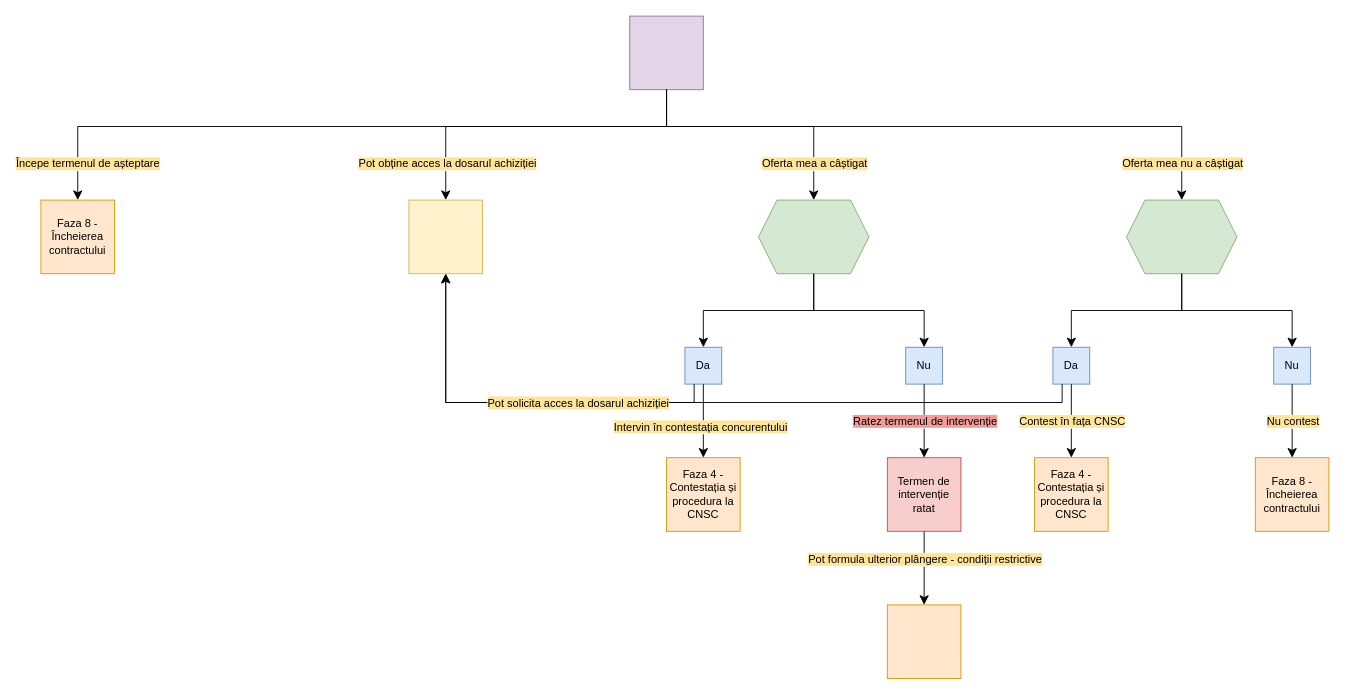
Some shapes in this 1345 by 695 pixel diagram are drawn without their labels. Each missing label, with the box of its shape:
Apăr rezultatul?: (758, 199, 869, 274)
Cerere de acces la dosarul achiziției: (408, 199, 483, 274)
Contest rezultatul?: (1126, 199, 1237, 274)
Faza 6 - Plângerea în fața Curții de Apel: (886, 604, 961, 678)
Raportul procedurii și comunicarea rezultatului: (629, 15, 703, 90)
